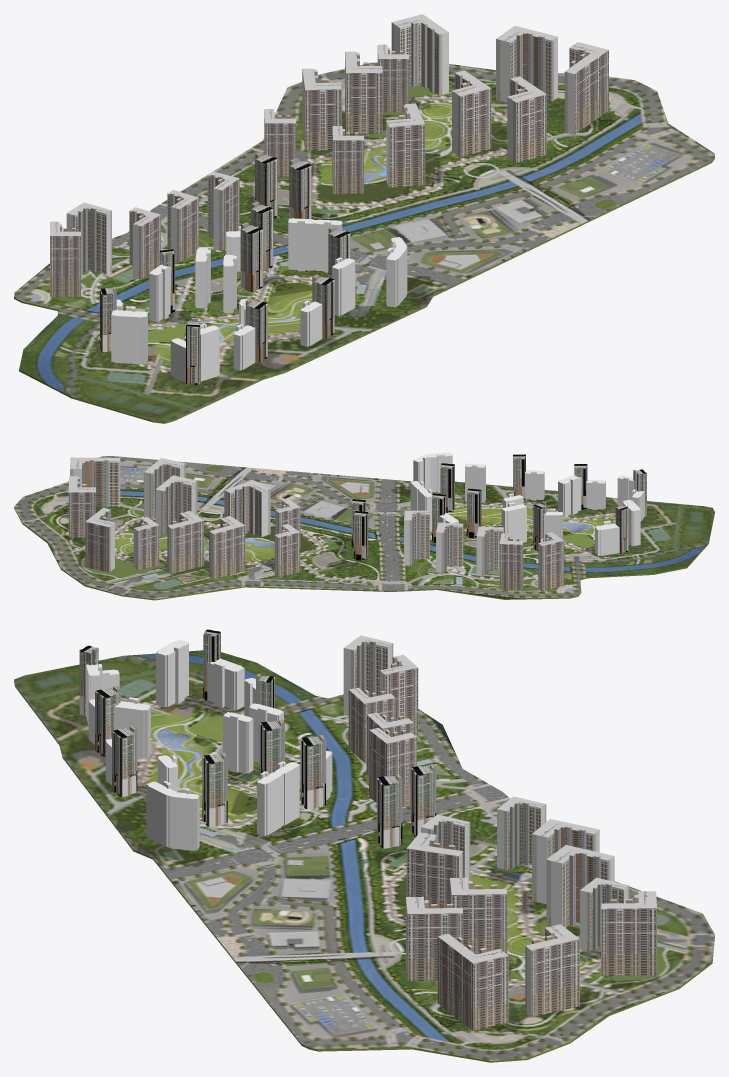
Rendered from ICJ00106_C.glb.
3 views of the same model, one above another, from view 1: azimuth 30°, elevation 25°; view 2: azimuth 150°, elevation 25°; view 3: azimuth 270°, elevation 25° (orthographic). The views are drawn at different scales.
Visible parts, largest first — view 1: MainBuilding; view 2: MainBuilding; view 3: MainBuilding.
Part boxes in pixels (x1,y1,x2,y2): MainBuilding: [14, 14, 714, 423]; MainBuilding: [14, 452, 714, 600]; MainBuilding: [14, 629, 714, 1062].
Size of the model in its own units: 4.52 by 0.3673 by 3.26.
Materials: 1 (1 with a texture image).
